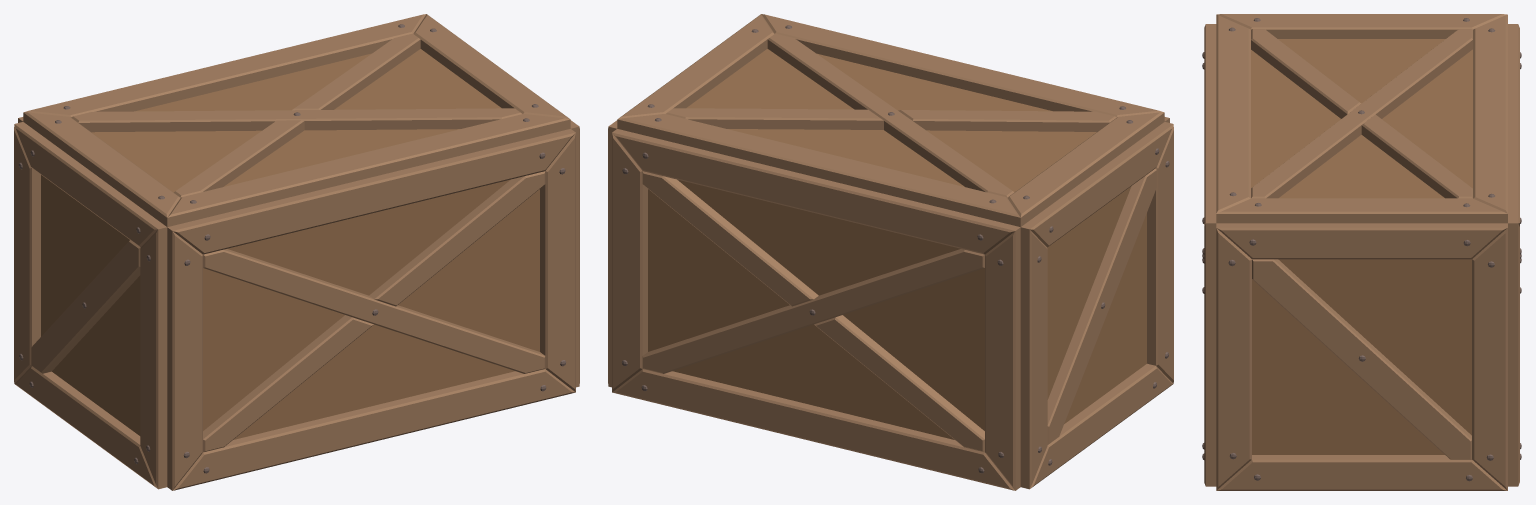
File: LVR_Crate_02.fbx
The picture shows the model from 3 angles, left to right: view 1: azimuth 30°, elevation 25°; view 2: azimuth 150°, elevation 25°; view 3: azimuth 270°, elevation 25°; orthographic projection.
Visible parts, largest first — view 1: Crate 02; view 2: Crate 02; view 3: Crate 02.
Boxes of the visible parts, x1,y1,x2,y2 form: Crate 02: (14, 14, 579, 490); Crate 02: (608, 14, 1173, 490); Crate 02: (1202, 14, 1521, 490).
Bounding box in the file's own units: 95.96 × 58.46 × 61.36.
